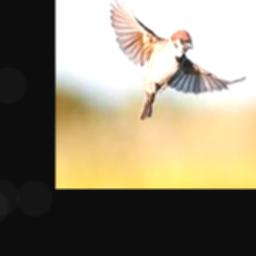Sparrow: (108, 0, 246, 120)
